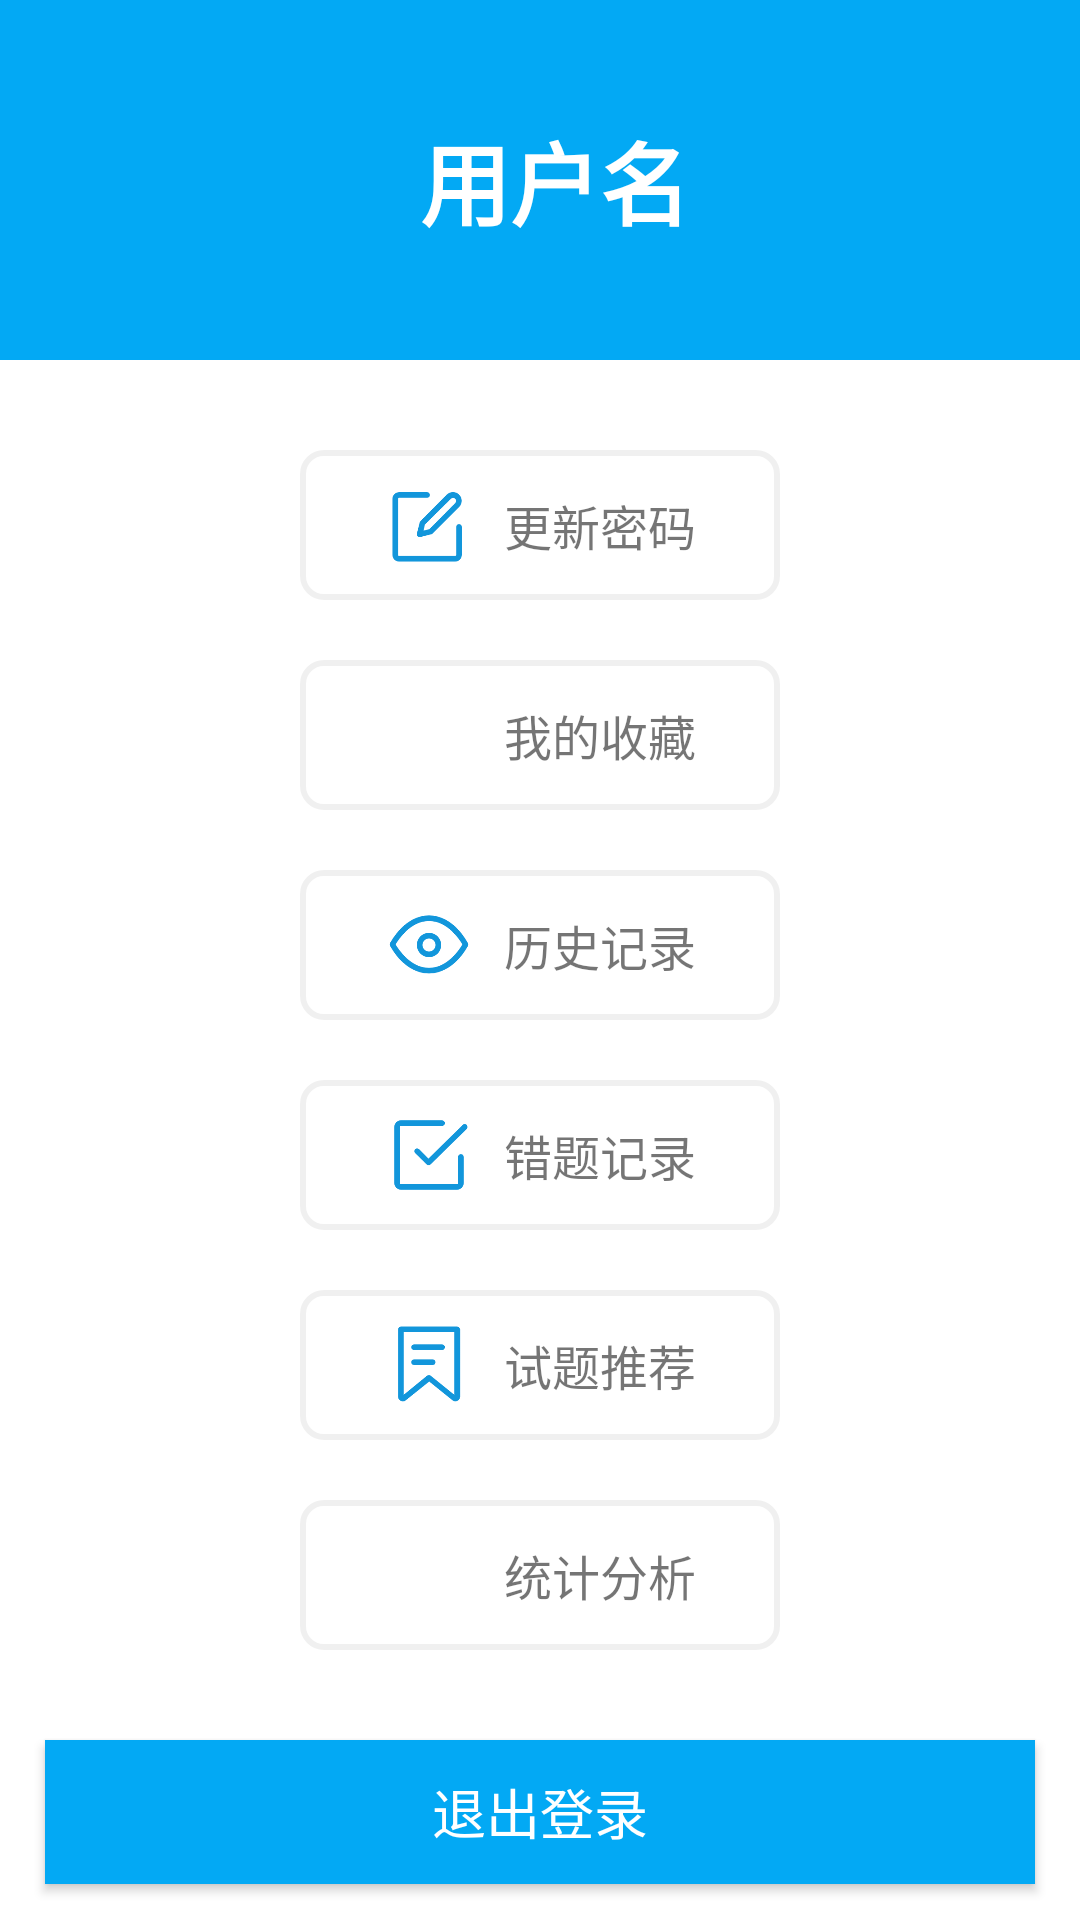

Icon bounding boxes for this 1080 × 1920 phone screenshot, format {"x1": x1, "y1": y1, "x2": x2, "y2": y2}:
browse: {"x1": 389, "y1": 915, "x2": 469, "y2": 974}
complete: {"x1": 394, "y1": 1120, "x2": 468, "y2": 1190}
edit: {"x1": 392, "y1": 492, "x2": 462, "y2": 562}
